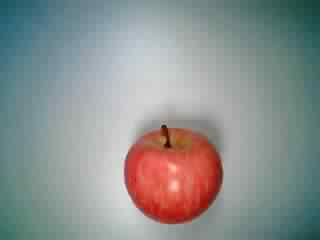apple: (122, 121, 226, 225)
